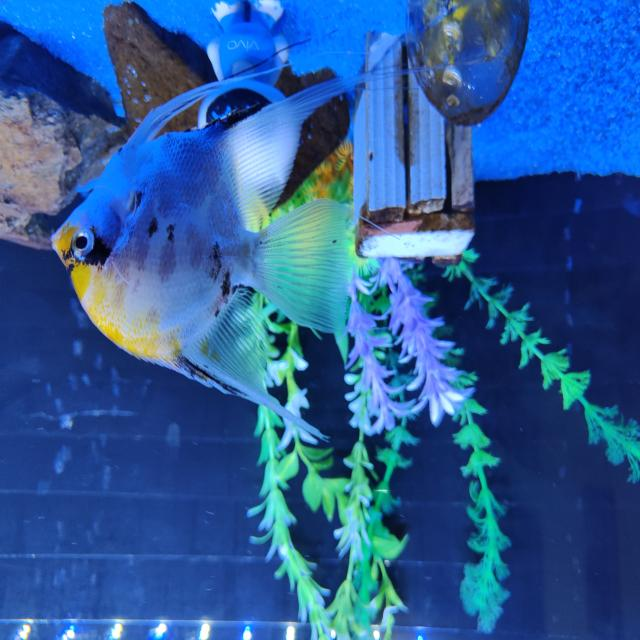Fish: (51, 79, 358, 435)
